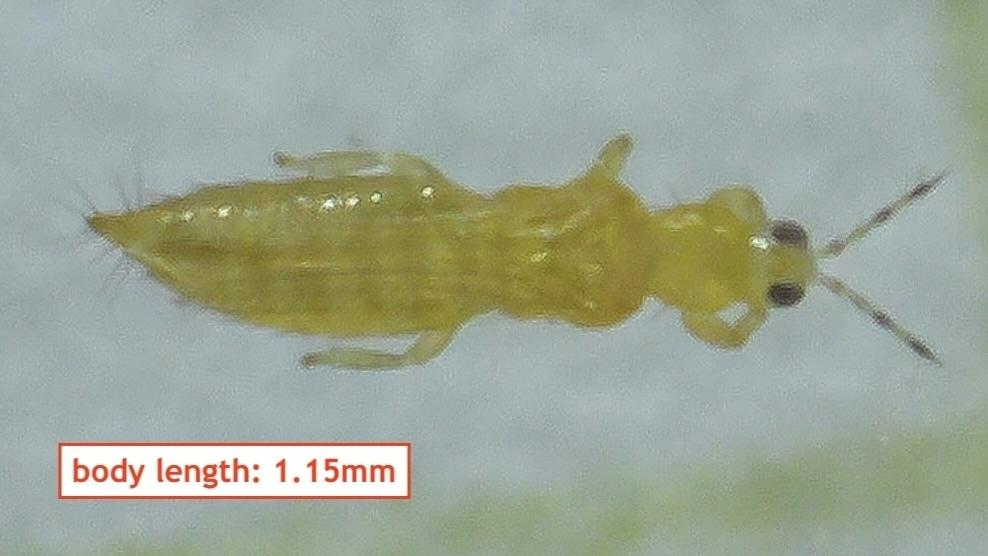tiny_pests: (0, 68, 988, 428)
